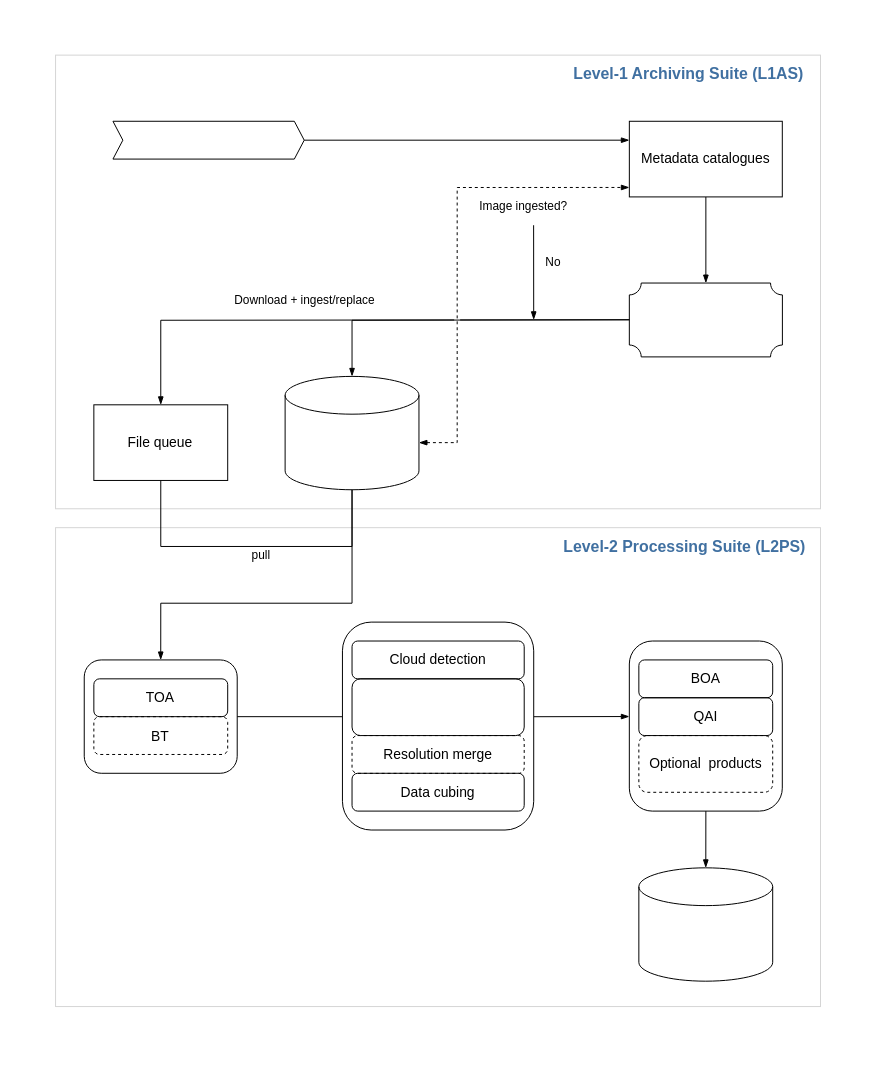
Image size: 875x1073. Some labels were removed from this diagram. Here are the shapes that lost their labels. From the top down, the centre of each, then its label:
(208,139): Parameters
(705,319): Cloud Storage
(351,432): Level 1 data pool
(437,707): Radiometric correction
(705,924): Level 2 ARD
